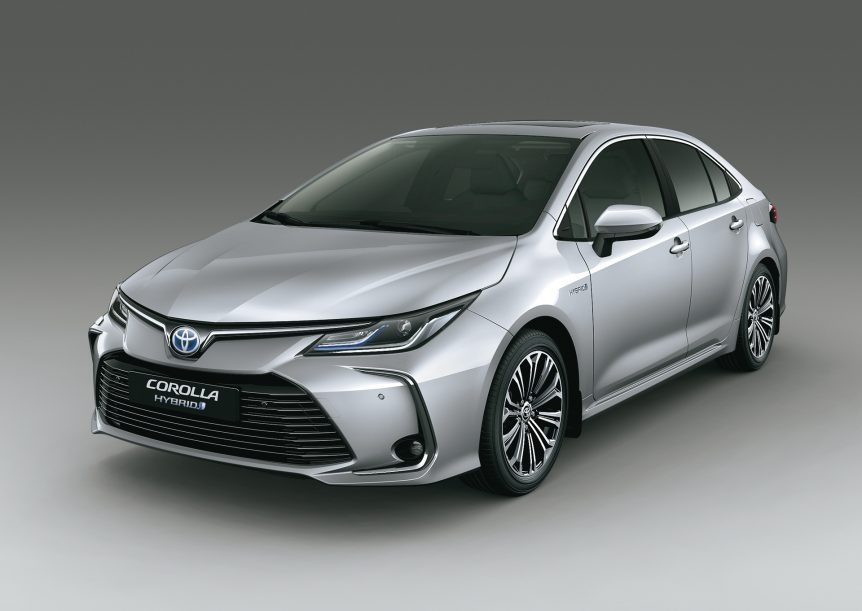car: (75, 115, 784, 503)
